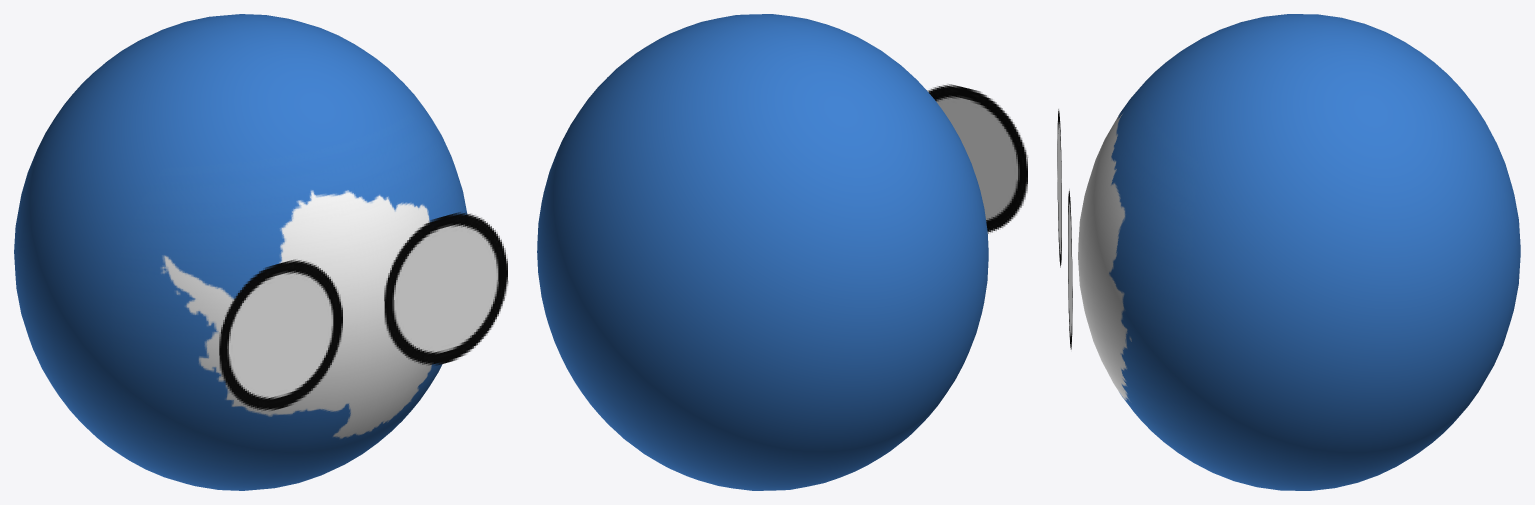
The model's file is reference_antarctica.glb.
The picture shows the model from 3 angles, left to right: view 1: azimuth 30°, elevation 25°; view 2: azimuth 150°, elevation 25°; view 3: azimuth 270°, elevation 25°; orthographic projection.
Parts seen in each view (by area): view 1: node_id54_4; view 2: node_id54_4; view 3: node_id54_4.
Part boxes in pixels (x1,y1,x2,y2): node_id54_4: (14,14,508,490); node_id54_4: (537,14,1027,490); node_id54_4: (1057,14,1520,490).
Size of the model in its own units: 0.2199 by 0.2329 by 0.2235.
3 materials, 3 textured.
